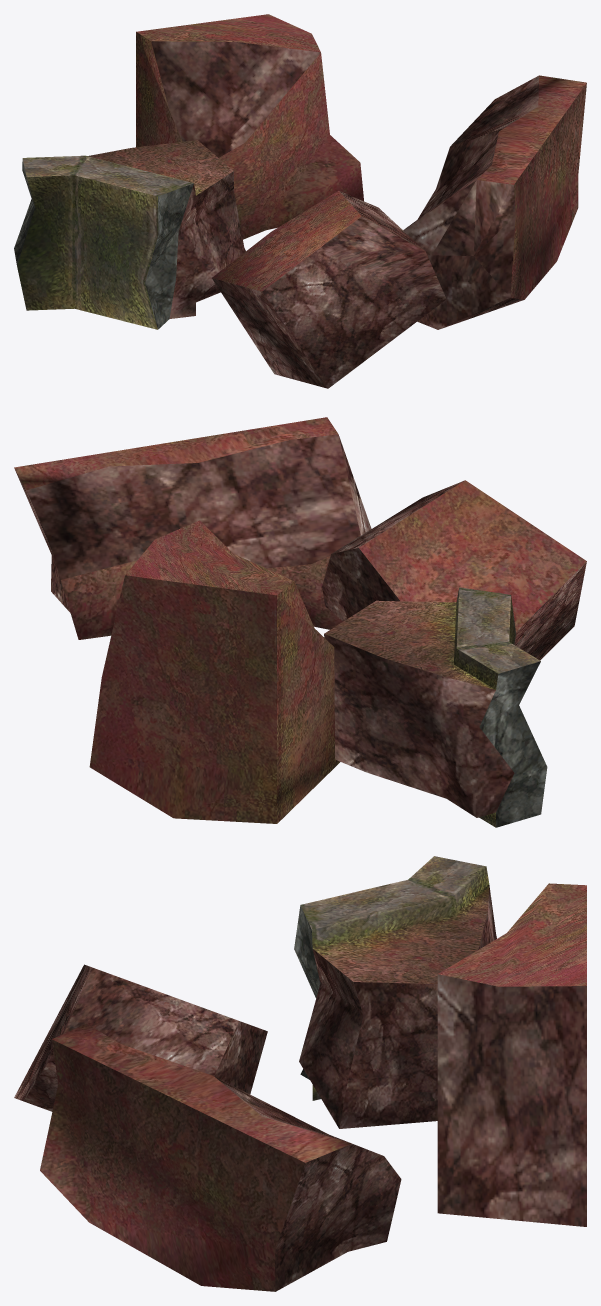
The model's file is fortressa_wall_bk00.fbx.
The picture shows the model from 3 angles, top to bottom: view 1: azimuth 30°, elevation 25°; view 2: azimuth 150°, elevation 25°; view 3: azimuth 270°, elevation 25°; orthographic projection. The views are drawn at different scales.
Parts seen in each view (by area): view 1: fortressA_wall_bk00; view 2: fortressA_wall_bk00; view 3: fortressA_wall_bk00.
Part boxes in pixels (bbox=[...]): fortressA_wall_bk00: bbox=[14, 14, 586, 388]; fortressA_wall_bk00: bbox=[14, 417, 586, 827]; fortressA_wall_bk00: bbox=[14, 856, 586, 1291].
Size of the model in its own units: 9.54 by 4.04 by 7.2.
